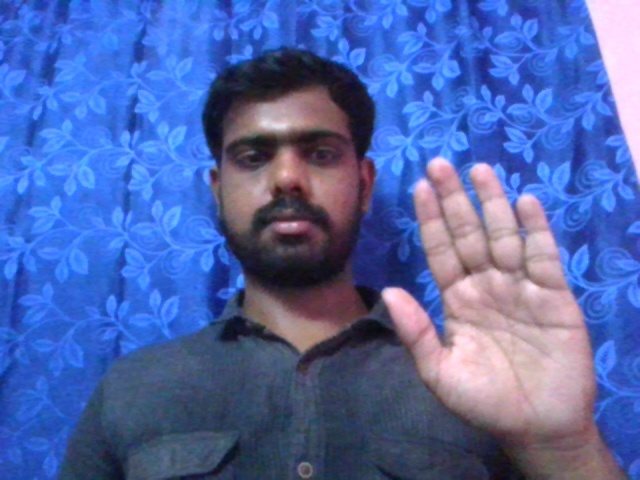Hello: (379, 153, 595, 435)
